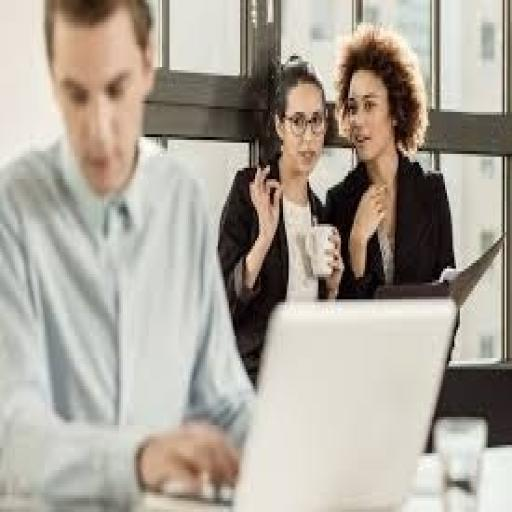sitting: (0, 0, 257, 509), (214, 53, 345, 386), (320, 22, 458, 296)
